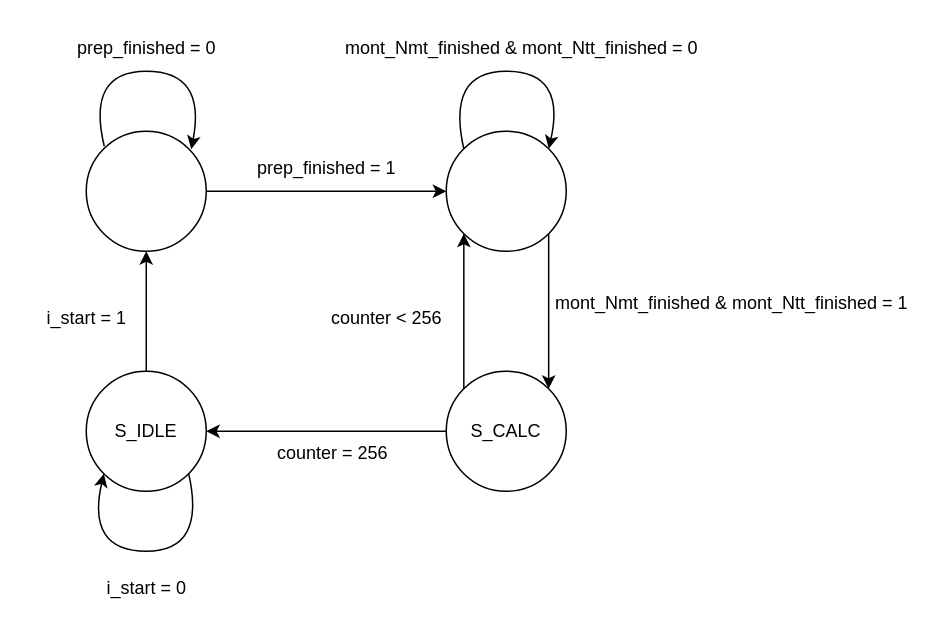
Some shapes in this 951 by 636 pixel diagram are drawn without their labels. Each missing label, with the box of its shape:
S_MONT: (445, 130, 566, 251)
S_PREP: (85, 130, 206, 251)
